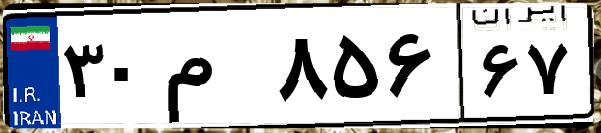0: (110, 28, 158, 98)
3: (57, 26, 110, 100)
5: (330, 28, 385, 110)
6: (385, 28, 445, 110), (475, 38, 525, 113)
7: (525, 38, 570, 115)
8: (270, 28, 330, 110)
م: (158, 20, 270, 120)
